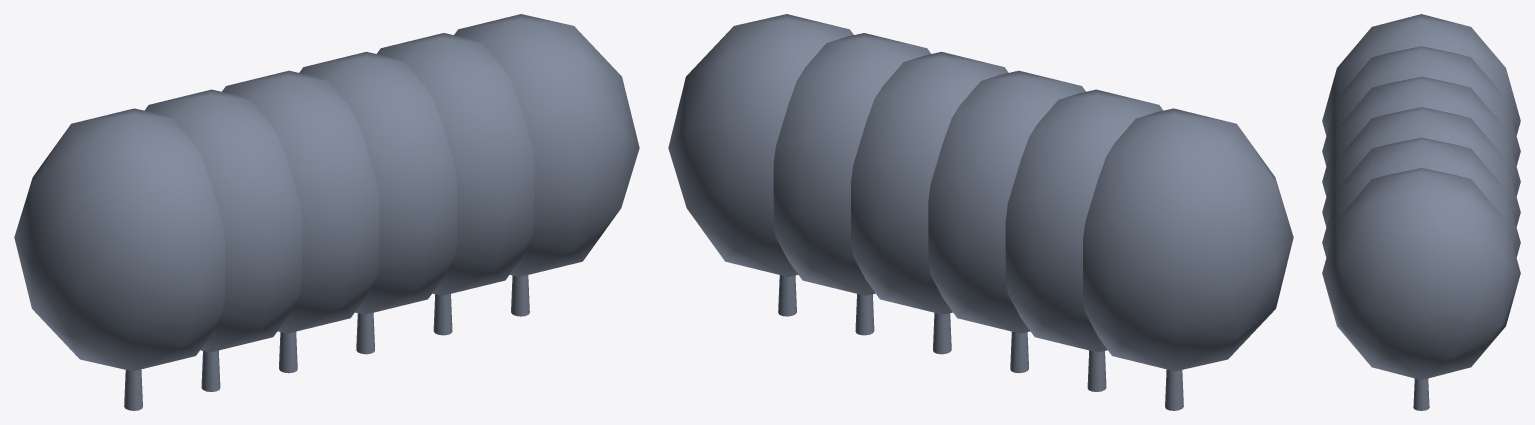
The model's file is garden-hedge-round.glb.
3 renders of one model, left to right at view 1: azimuth 30°, elevation 25°; view 2: azimuth 150°, elevation 25°; view 3: azimuth 270°, elevation 25°, orthographic. The views are drawn at different scales.
Visible parts, largest first — view 1: garden-hedge-round; view 2: garden-hedge-round; view 3: garden-hedge-round.
Part boxes in pixels (bbox=[...]): garden-hedge-round: bbox=[14, 14, 639, 410]; garden-hedge-round: bbox=[668, 14, 1293, 410]; garden-hedge-round: bbox=[1322, 14, 1520, 410].
Size of the model in its own units: 1.8 by 0.85 by 0.65.
